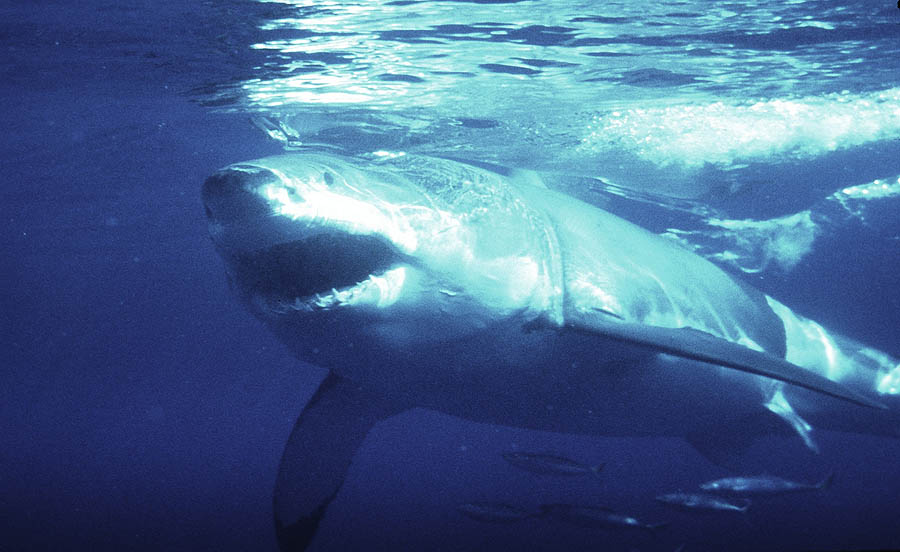Carcharodon_carcharias: (178, 129, 900, 542)
